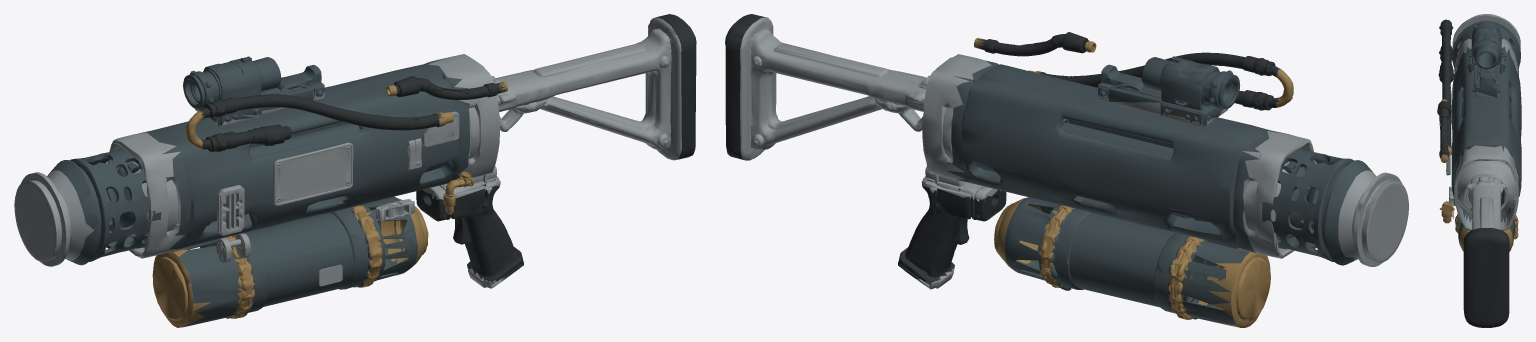
Rendered from compact.glb.
3 renders of one model, left to right at view 1: azimuth 30°, elevation 25°; view 2: azimuth 150°, elevation 25°; view 3: azimuth 270°, elevation 25°, orthographic. The views are drawn at different scales.
Visible parts, largest first — view 1: Assembly_01_Core, Assembly_05_LowerSalvage, Assembly_08_BraceSkeletal, Assembly_02_ShroudCompact, Assembly_11_Grip, Assembly_12_Observation, Assembly_15_HoseLower, Assembly_13_FrontCap, Assembly_18_IDPlate, Assembly_14_HoseUpper, Assembly_26_VentGuard, Assembly_27_RepairPlate (+3 smaller); view 2: Assembly_01_Core, Assembly_05_LowerSalvage, Assembly_08_BraceSkeletal, Assembly_02_ShroudCompact, Assembly_12_Observation, Assembly_11_Grip, Assembly_13_FrontCap, Assembly_15_HoseLower, Assembly_14_HoseUpper; view 3: Assembly_01_Core, Assembly_08_BraceSkeletal, Assembly_12_Observation, Assembly_15_HoseLower, Assembly_02_ShroudCompact, Assembly_14_HoseUpper, Assembly_13_FrontCap, Assembly_05_LowerSalvage, Assembly_16_FittingElbow, Assembly_20_BandClamp.
Part boxes in pixels (x1,y1,x2,y2): Assembly_01_Core: [107, 54, 499, 258]; Assembly_05_LowerSalvage: [152, 196, 428, 327]; Assembly_08_BraceSkeletal: [491, 14, 696, 160]; Assembly_02_ShroudCompact: [47, 148, 161, 265]; Assembly_11_Grip: [416, 166, 523, 288]; Assembly_12_Observation: [183, 56, 324, 127]; Assembly_15_HoseLower: [186, 94, 453, 151]; Assembly_13_FrontCap: [14, 172, 71, 266]; Assembly_18_IDPlate: [273, 142, 353, 205]; Assembly_14_HoseUpper: [386, 76, 507, 99]; Assembly_26_VentGuard: [217, 184, 244, 236]; Assembly_27_RepairPlate: [422, 111, 459, 147]; Assembly_01_Core: [922, 54, 1315, 258]; Assembly_05_LowerSalvage: [994, 197, 1270, 327]; Assembly_08_BraceSkeletal: [725, 14, 930, 160]; Assembly_02_ShroudCompact: [1262, 148, 1376, 265]; Assembly_12_Observation: [1098, 56, 1240, 127]; Assembly_11_Grip: [898, 166, 1006, 289]; Assembly_13_FrontCap: [1352, 172, 1408, 266]; Assembly_15_HoseLower: [1028, 52, 1293, 110]; Assembly_14_HoseUpper: [974, 32, 1096, 56]; Assembly_01_Core: [1451, 38, 1521, 231]; Assembly_08_BraceSkeletal: [1463, 174, 1509, 327]; Assembly_12_Observation: [1467, 21, 1506, 98]; Assembly_15_HoseLower: [1438, 19, 1454, 155]; Assembly_02_ShroudCompact: [1452, 20, 1520, 76]; Assembly_14_HoseUpper: [1437, 99, 1451, 162]; Assembly_13_FrontCap: [1452, 14, 1520, 48]; Assembly_05_LowerSalvage: [1455, 214, 1518, 251]; Assembly_16_FittingElbow: [1439, 201, 1454, 223]; Assembly_20_BandClamp: [1449, 186, 1455, 205].
Size of the model in its own units: 0.8924 by 0.3698 by 0.1419.
